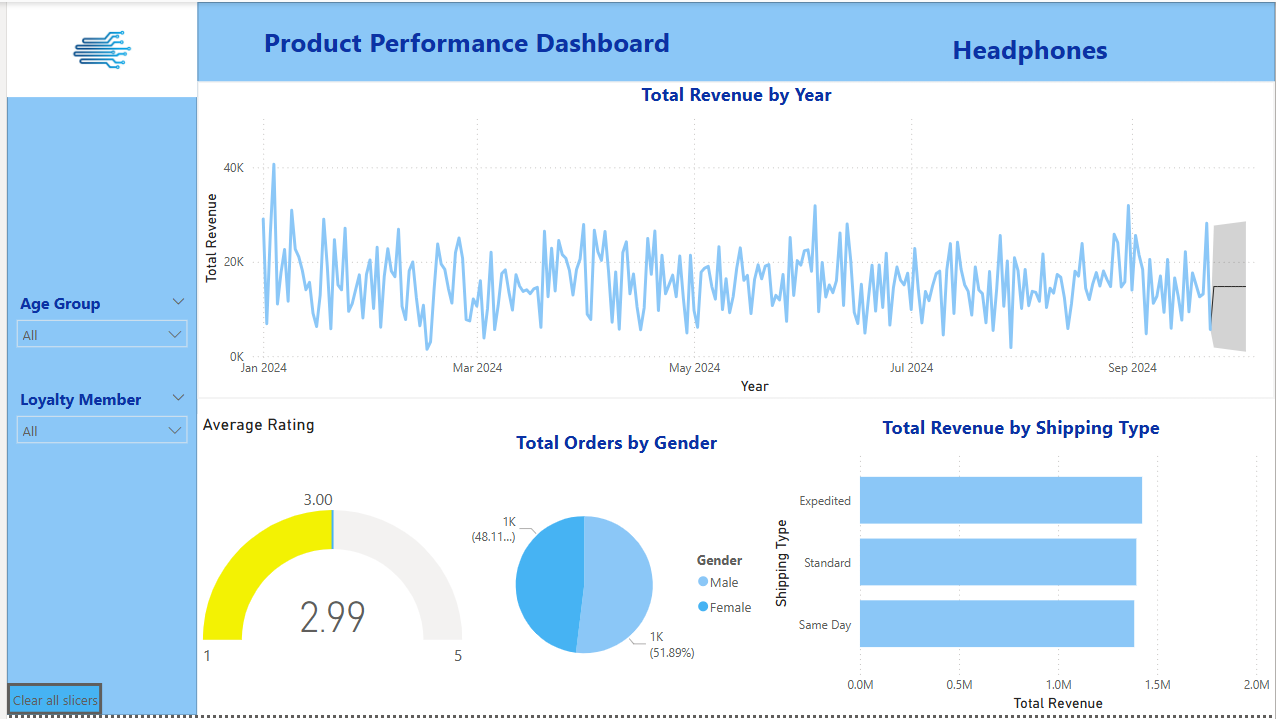

Layout of this report page (visuals, bound fields, positions):
{"tool":"powerbi","page":{"name":"Overview By Product","canvas":[1280,720],"ordinal":4},"visuals":[{"type":"shape","box":[0,0,192,720],"z":0},{"type":"image","box":[0,0,192,96],"z":1000},{"type":"shape","box":[192,0,1088,96],"z":2000},{"type":"textbox","box":[192,16,544,80],"z":3000},{"type":"slicer","fields":{"Values":["Customers.Age Group"]},"box":[0,288,192,96],"z":4000},{"type":"card","fields":{"Values":["Calculation.Current Product"]},"box":[784,0,496,96],"z":5000},{"type":"slicer","fields":{"Values":["Customers.Loyalty Member"]},"box":[0,384,192,96],"z":6000},{"type":"lineChart","title":"Total Revenue by Year","fields":{"Category":["Orders.Purchase Date.Variation.Date Hierarchy.Year","Orders.Purchase Date.Variation.Date Hierarchy.Quarter","Orders.Purchase Date.Variation.Date Hierarchy.Month","Orders.Purchase Date.Variation.Date Hierarchy.Day"],"Y":["Calculation.Total Revenue"]},"box":[192,80,1088,320],"z":7000},{"type":"clusteredBarChart","fields":{"Category":["Shipping Type.Shipping Type"],"Y":["Calculation.Total Revenue"]},"box":[768,416,512,304],"z":8000},{"type":"pieChart","fields":{"Category":["Customers.Gender"],"Y":["Calculation.Total Orders"]},"box":[464,432,304,288],"z":9000},{"type":"gauge","title":"Average Rating","fields":{"TargetValue":["Calculation.Target Rating"],"Y":["Avg(Orders.Rating)"],"MinValue":["Calculation.Min Target"],"MaxValue":["Calculation.Max Target"]},"box":[192,416,272,304],"z":10000},{"type":"actionButton","box":[0,688,96,32],"z":11000}]}

Visuals, with their boxes in screenshot pixels (x1, y1, x2, y2), scaled from the page's 1280x720 canvas onto the 1276x719 screenshot:
shape: (0, 0, 191, 718)
image: (0, 0, 191, 96)
shape: (191, 0, 1275, 96)
textbox: (191, 16, 734, 96)
slicer - Customers.Age Group: (0, 288, 191, 383)
card - Calculation.Current Product: (782, 0, 1275, 96)
slicer - Customers.Loyalty Member: (0, 383, 191, 479)
"Total Revenue by Year" lineChart: (191, 80, 1275, 399)
clusteredBarChart - Shipping Type.Shipping Type x Calculation.Total Revenue: (766, 415, 1275, 718)
pieChart - Customers.Gender x Calculation.Total Orders: (463, 431, 766, 718)
"Average Rating" gauge: (191, 415, 463, 718)
actionButton: (0, 687, 96, 718)
